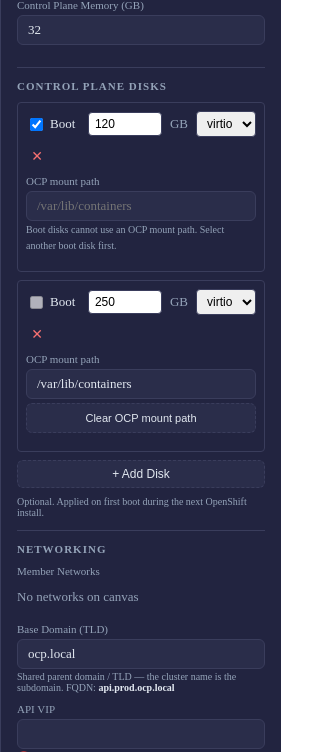
Test case: PropertiesPanel cluster editor › protects role boot disks and requires clearing a mount before making a disk bootable
The image size is (320, 752).
(page scrolled)
Expected: the 1st field labelled "OCP mount path" is disabled, top-left (26, 191), bottom-right (256, 221)
Expected: the 2nd checkbox labelled "Boot" is disabled, top-left (30, 296), bottom-right (43, 309)
Clear the 2nd field labelled "OCP mount path" at (141, 384), box top-left (26, 369), bottom-right (256, 399)
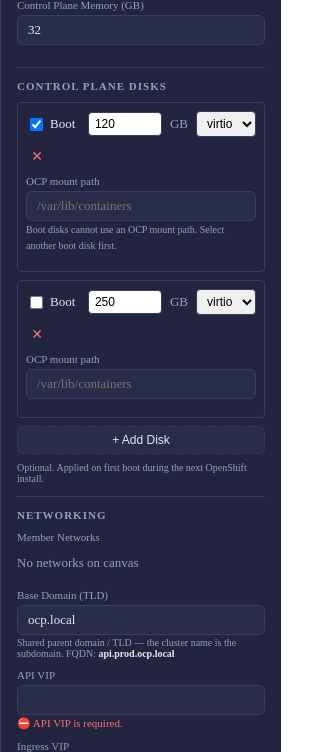
Expected: the 2nd checkbox labelled "Boot" is enabled
Click the 2nd checkbox labelled "Boot" at (36, 302), box top-left (30, 296), bottom-right (43, 309)
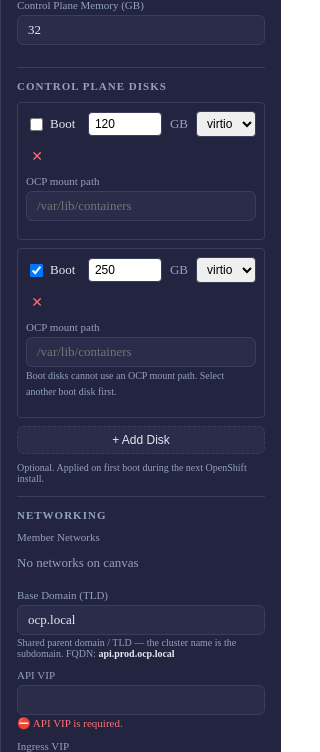
Expected: the 1st field labelled "OCP mount path" is enabled, top-left (26, 191), bottom-right (256, 221)
Expected: the 2nd field labelled "OCP mount path" is disabled, top-left (26, 337), bottom-right (256, 367)
